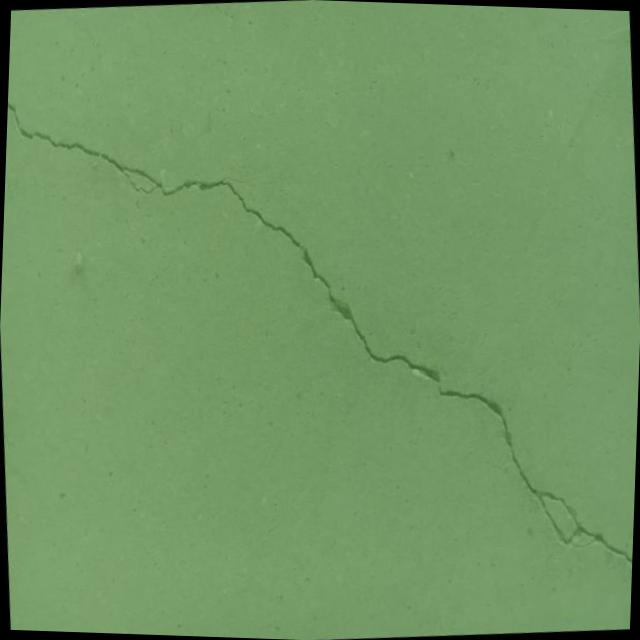crack: (0, 49, 640, 614)
